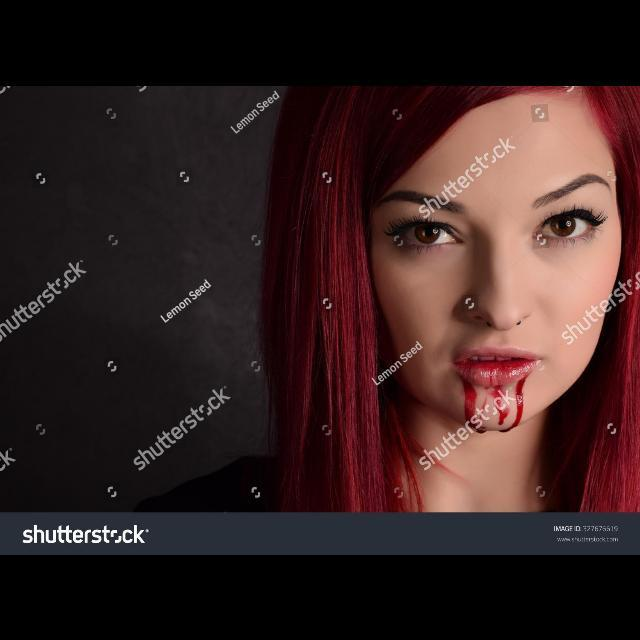blood: (445, 356, 544, 433)
